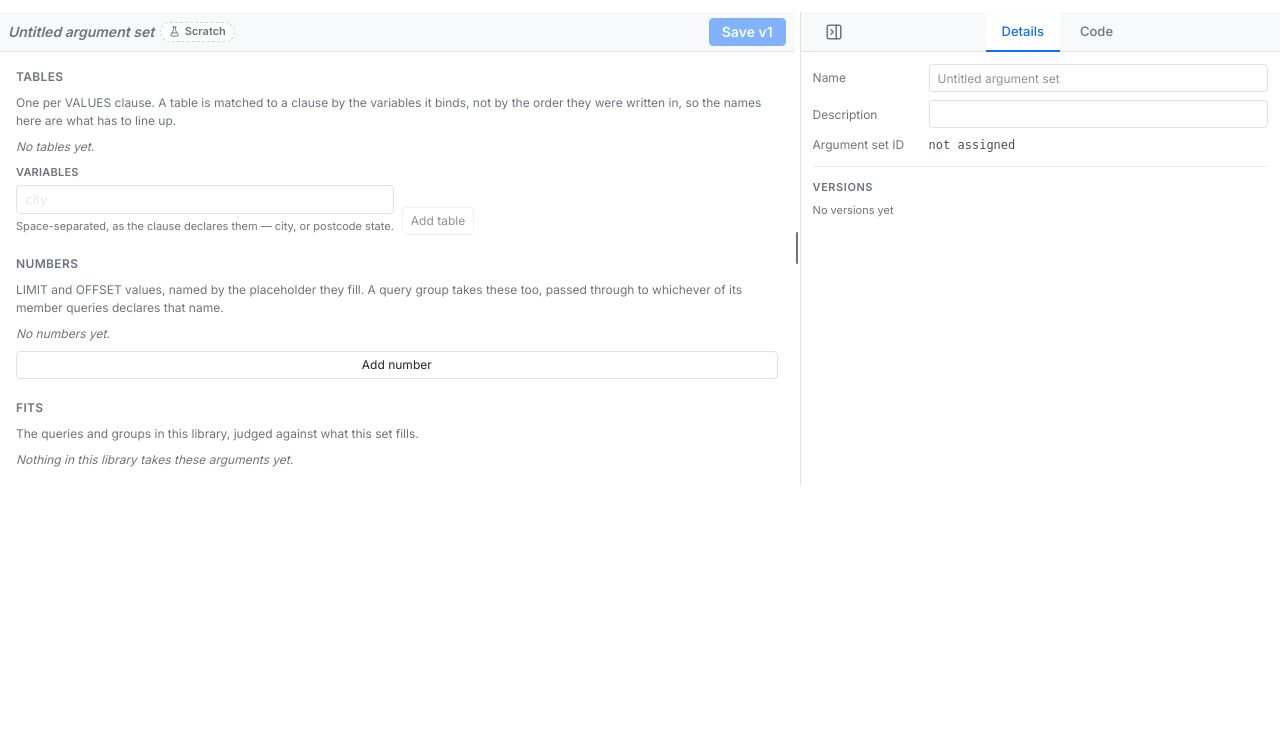
ArgumentSetWorkArea — composing parameters › adds and removes a number
The width and height of the screenshot is (1280, 732).
Click the button with test id "argument-set-add-scalar".
click(397, 364)  # box x1=16 y1=350 x2=778 y2=378
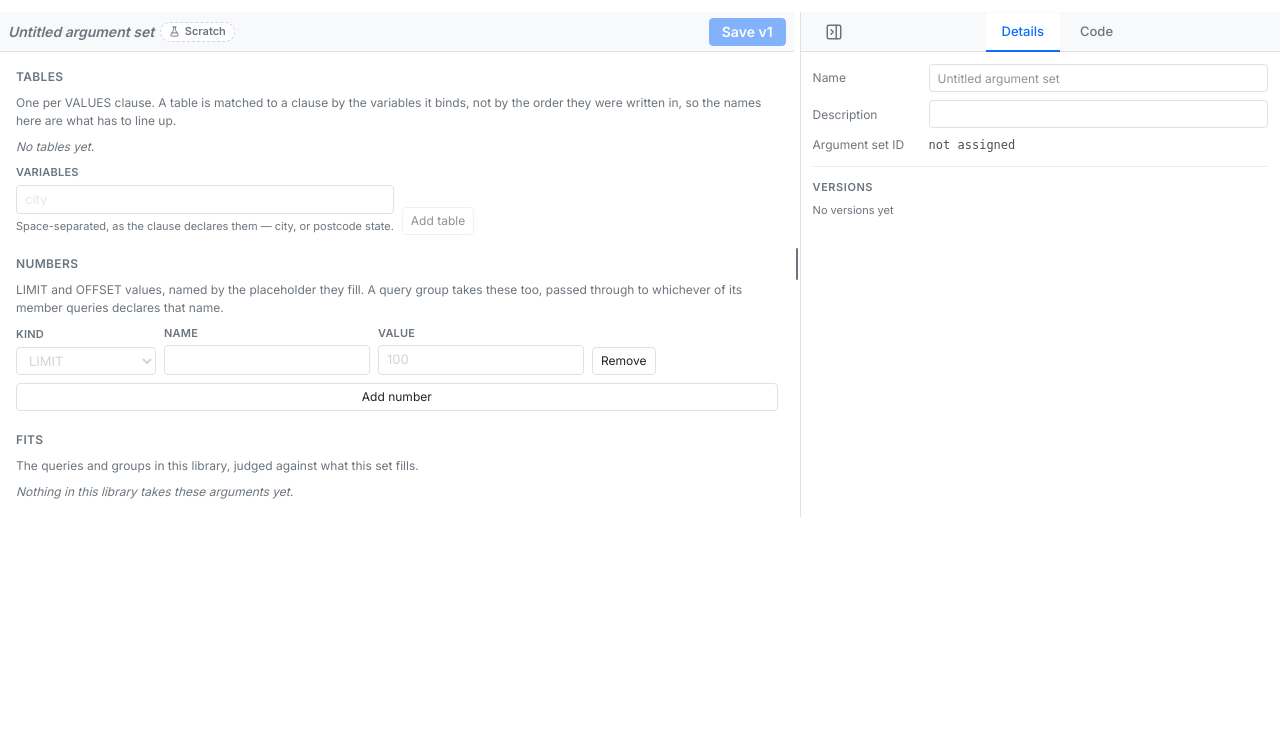
Expected: the number of elements with test id "argument-set-scalar-binding" is 1, x1=16 y1=326 x2=656 y2=374
Click the button with class "ghost-button" showing "Remove".
click(624, 360)  # box x1=592 y1=346 x2=656 y2=374
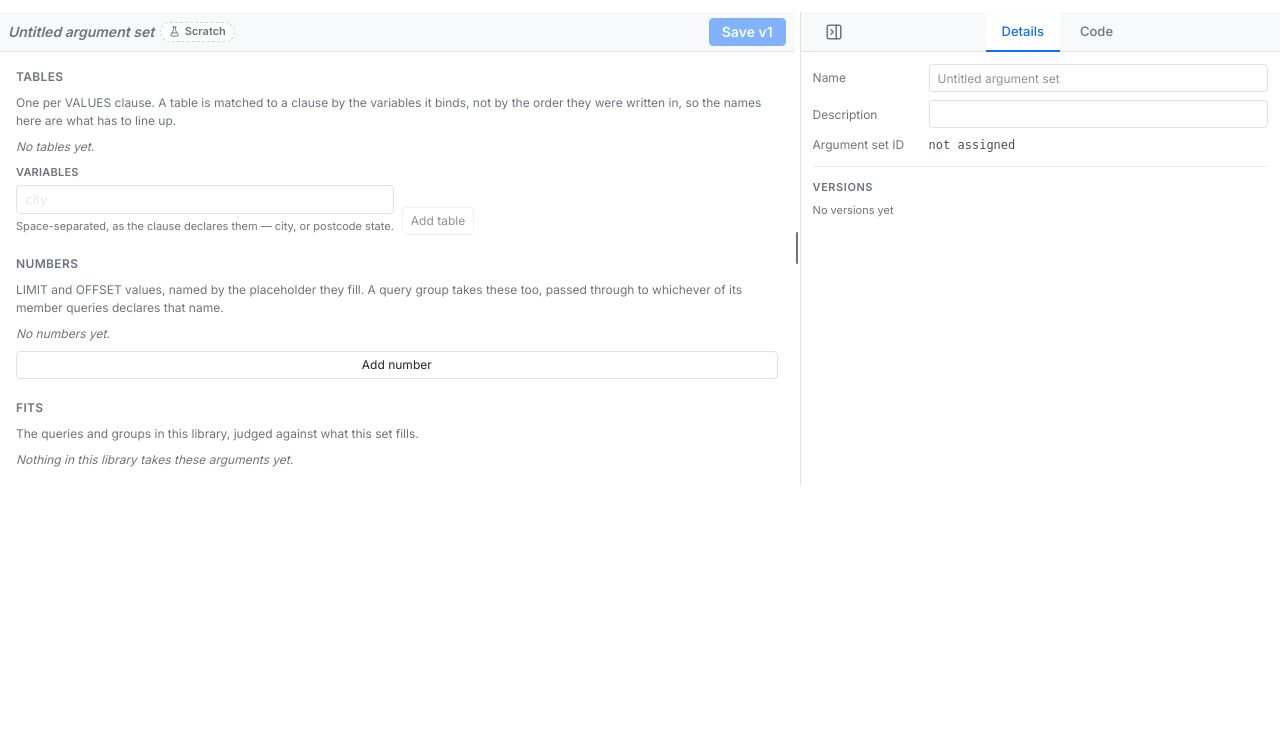
Expected: the text "No numbers yet." is shown, x1=16 y1=326 x2=110 y2=340
